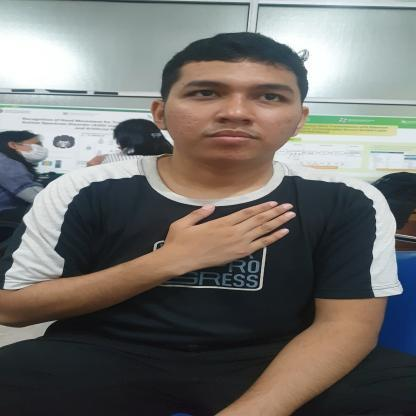Saya: (153, 198, 301, 276)
